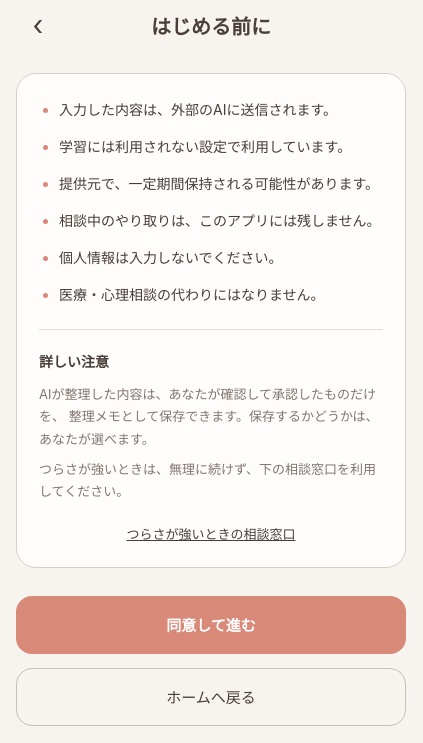
it: NoticePage › 保存に失敗したら、エラーを表示して進まない
The width and height of the screenshot is (423, 743).
Click the button "同意して進む".
click(211, 625)  # box [16,596,406,654]
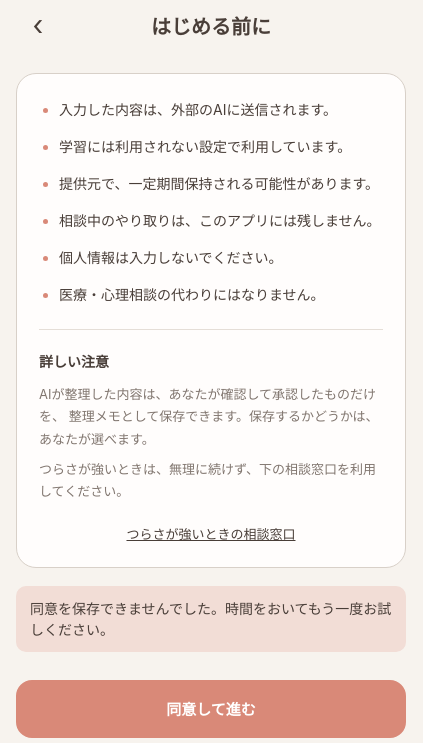
Expected: the message "同意を保存できませんでした。時間をおいてもう一度お試しください。" is shown, [16,586,406,652]
